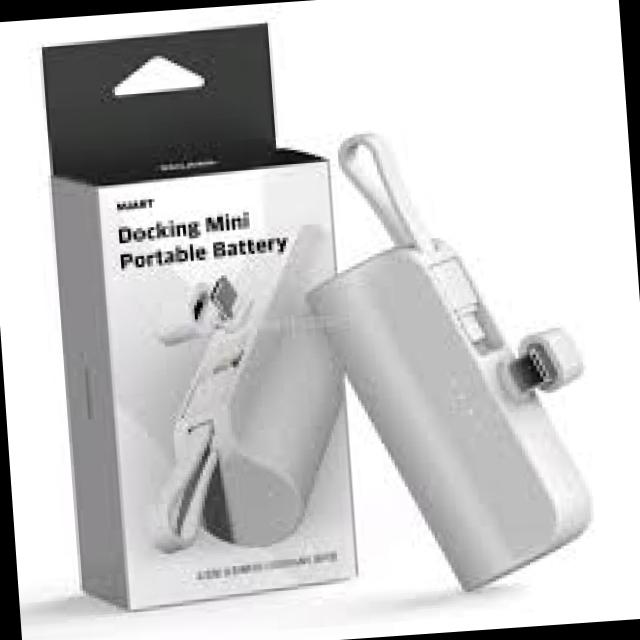portable-charger: (308, 228, 604, 615), (132, 220, 352, 558)
